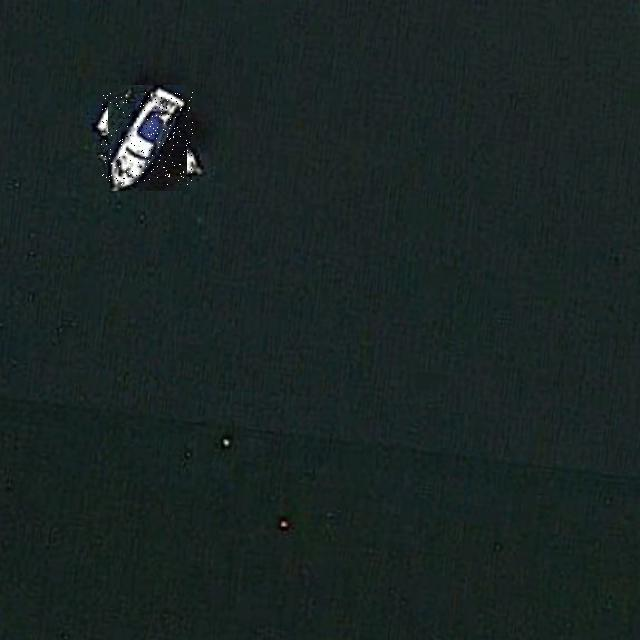boat: (101, 92, 193, 185)
